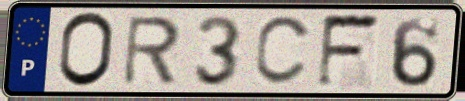3: (191, 14, 245, 88)
6: (390, 14, 441, 89)
C: (251, 14, 315, 89)
F: (313, 11, 384, 92)
O: (55, 10, 117, 91)
R: (120, 14, 184, 88)
